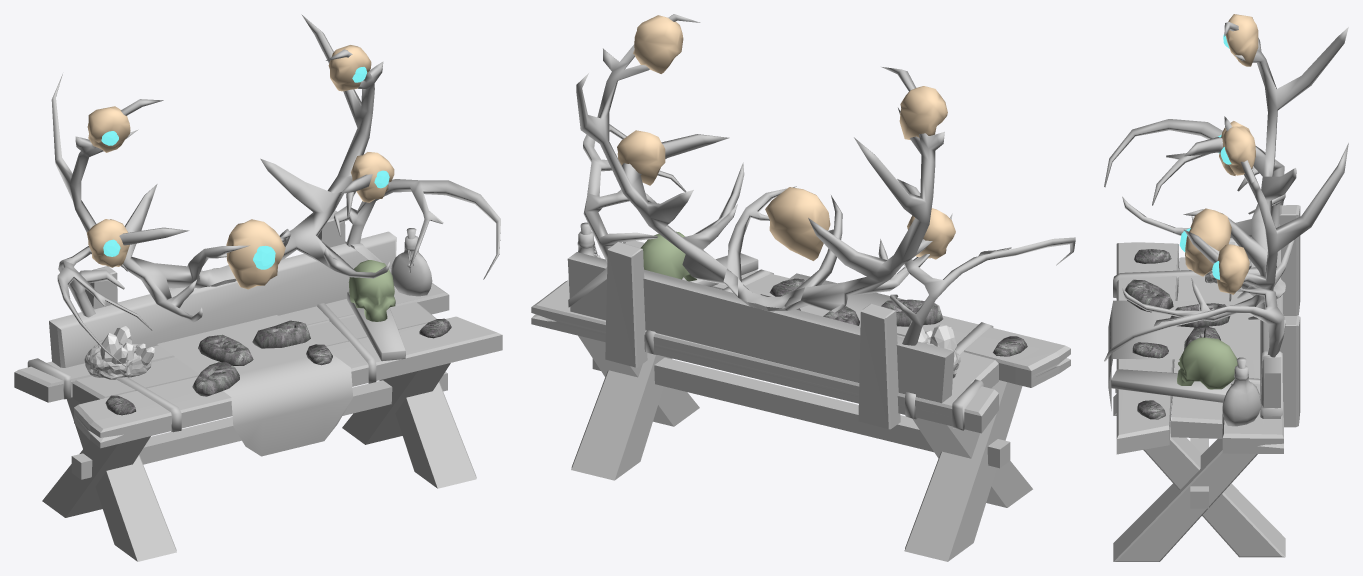
The model's file is AL_rune_bench.FBX.
The picture shows the model from 3 angles, left to right: view 1: azimuth 30°, elevation 25°; view 2: azimuth 150°, elevation 25°; view 3: azimuth 270°, elevation 25°; orthographic projection. The views are drawn at different scales.
Visible parts, largest first — view 1: prop_rune_bench, prop_rune_ice, prop_rune_basic, prop_rune_fire; view 2: prop_rune_bench, prop_rune_fire; view 3: prop_rune_bench, prop_rune_fire, prop_rune_basic, prop_rune_ice.
Part boxes in pixels (x1=…): prop_rune_bench: x1=14, y1=14, x2=502, y2=561; prop_rune_ice: x1=252, y1=320, x2=310, y2=348; prop_rune_basic: x1=198, y1=334, x2=253, y2=365; prop_rune_fire: x1=192, y1=362, x2=239, y2=396; prop_rune_bench: x1=531, y1=14, x2=1075, y2=561; prop_rune_fire: x1=881, y1=299, x2=943, y2=326; prop_rune_bench: x1=1104, y1=14, x2=1348, y2=561; prop_rune_fire: x1=1124, y1=279, x2=1173, y2=312; prop_rune_basic: x1=1170, y1=303, x2=1230, y2=327; prop_rune_ice: x1=1184, y1=326, x2=1220, y2=349.
Size of the model in its own units: 314 by 289 by 159.
